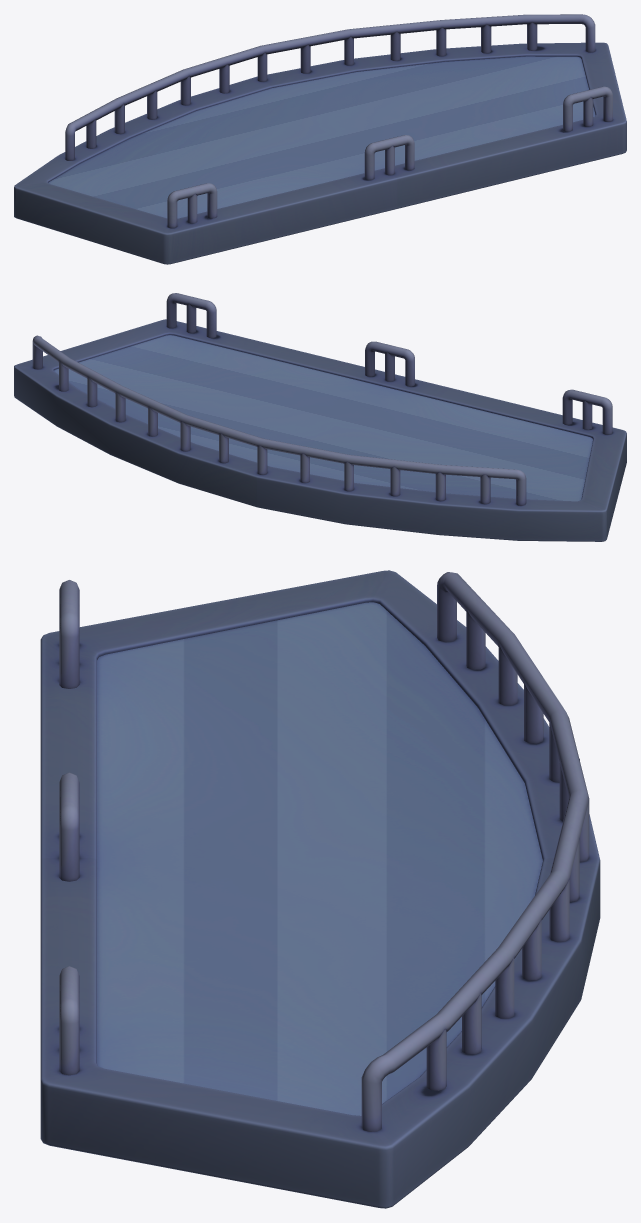
Rendered from Town_Poison_Scaffolding_Big.fbx.
3 views of the same model, one above another, from view 1: azimuth 30°, elevation 25°; view 2: azimuth 150°, elevation 25°; view 3: azimuth 270°, elevation 25° (orthographic). The views are drawn at different scales.
Visible parts, largest first — view 1: Town_Poison_Scaffolding_Big; view 2: Town_Poison_Scaffolding_Big; view 3: Town_Poison_Scaffolding_Big.
Boxes of the visible parts, x1=… form: Town_Poison_Scaffolding_Big: x1=14, y1=14, x2=626, y2=264; Town_Poison_Scaffolding_Big: x1=14, y1=293, x2=626, y2=541; Town_Poison_Scaffolding_Big: x1=40, y1=570, x2=600, y2=1208.
Bounding box in the file's own units: 1394 × 147 × 571.
